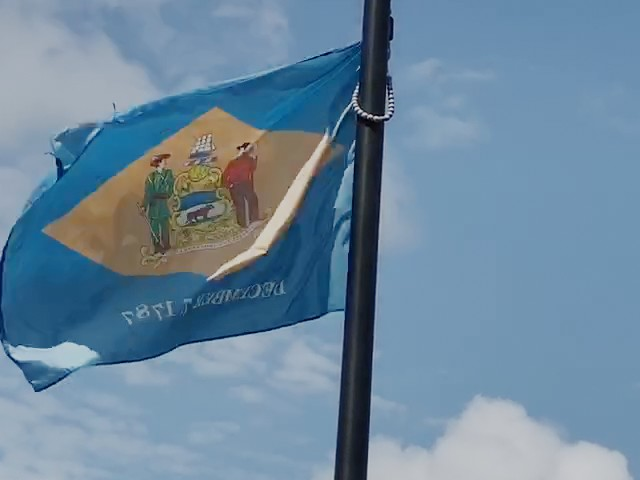Delaware flag: (1, 40, 361, 404)
